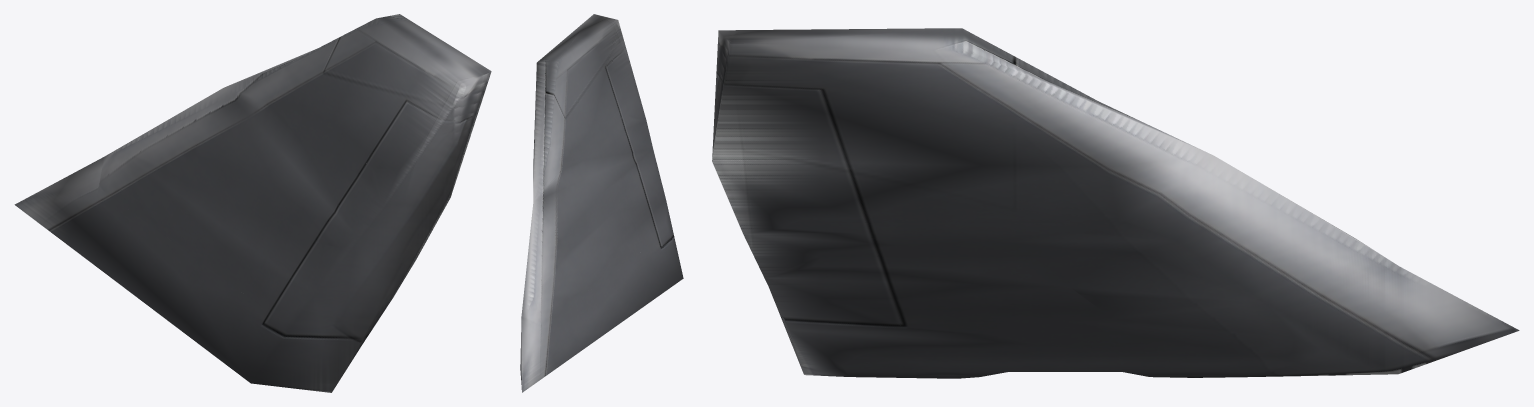
Rendered from fin.glb.
3 views of the same model, side by side, from view 1: azimuth 30°, elevation 25°; view 2: azimuth 150°, elevation 25°; view 3: azimuth 270°, elevation 25° (orthographic). The views are drawn at different scales.
Parts seen in each view (by area): view 1: fin; view 2: fin; view 3: fin.
Part boxes in pixels (x1,y1,x2,y2): fin: [14, 14, 491, 392]; fin: [520, 14, 683, 392]; fin: [712, 28, 1519, 378].
Bounding box in the file's own units: 0.5542 × 0.8824 × 1.54.
Materials: 1 (1 with a texture image).
